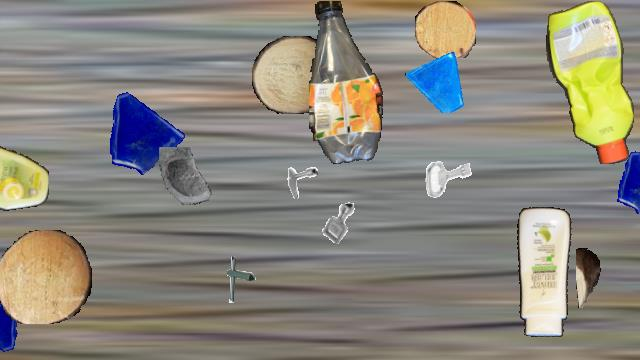glass: (97, 85, 187, 175), (153, 147, 221, 215), (405, 50, 467, 112), (0, 280, 31, 358), (611, 148, 640, 214)
metal: (417, 148, 477, 208), (311, 195, 367, 251), (212, 253, 264, 305), (276, 156, 318, 198)
plastic: (545, 1, 635, 163), (309, 1, 385, 163), (510, 207, 574, 337), (0, 146, 48, 212)
wood: (0, 230, 92, 324), (252, 36, 334, 114), (415, 1, 475, 59), (576, 248, 600, 308)
